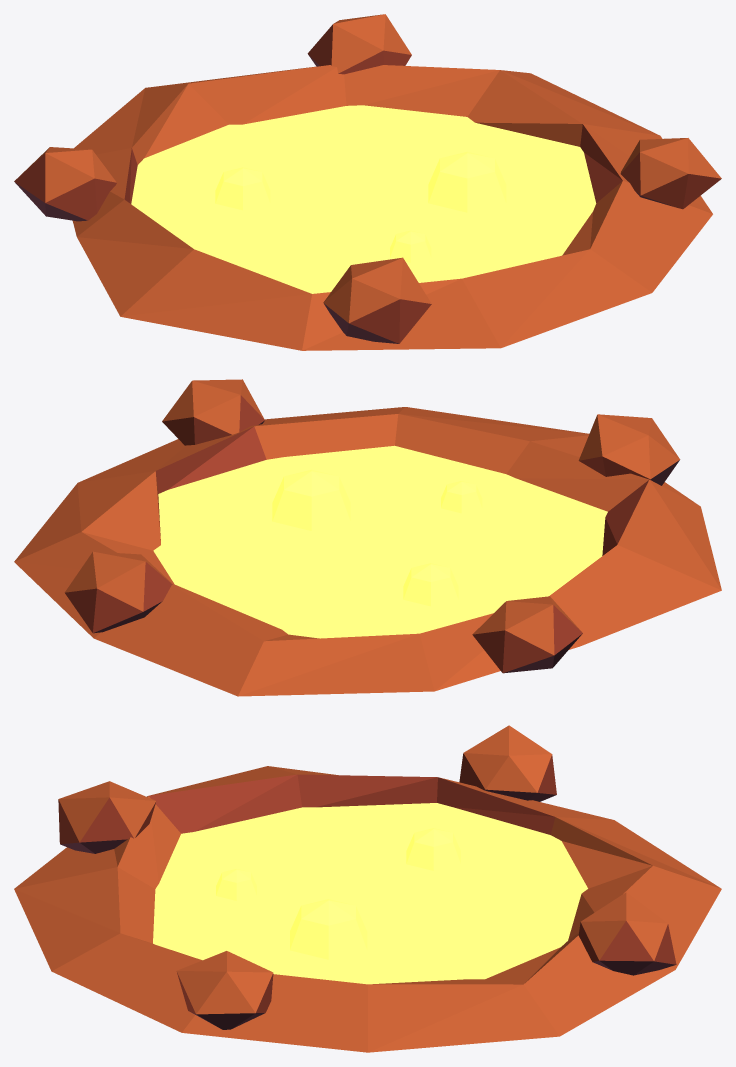
Rendered from Nat_SlimePool_B.fbx.
3 renders of one model, top to bottom at view 1: azimuth 30°, elevation 25°; view 2: azimuth 150°, elevation 25°; view 3: azimuth 270°, elevation 25°, orthographic.
Visible parts, largest first — view 1: Nat_SlimePool_B_Body, Nat_SlimePool_B_Bubbles; view 2: Nat_SlimePool_B_Body, Nat_SlimePool_B_Bubbles; view 3: Nat_SlimePool_B_Body, Nat_SlimePool_B_Bubbles.
Part boxes in pixels (bbox=[...]): Nat_SlimePool_B_Body: bbox=[14, 14, 721, 350]; Nat_SlimePool_B_Bubbles: bbox=[215, 151, 506, 262]; Nat_SlimePool_B_Body: bbox=[14, 379, 721, 696]; Nat_SlimePool_B_Bubbles: bbox=[272, 469, 482, 606]; Nat_SlimePool_B_Body: bbox=[14, 725, 721, 1052]; Nat_SlimePool_B_Bubbles: bbox=[216, 828, 460, 959].
Bounding box in the file's own units: 5.16 × 0.5652 × 5.39.
